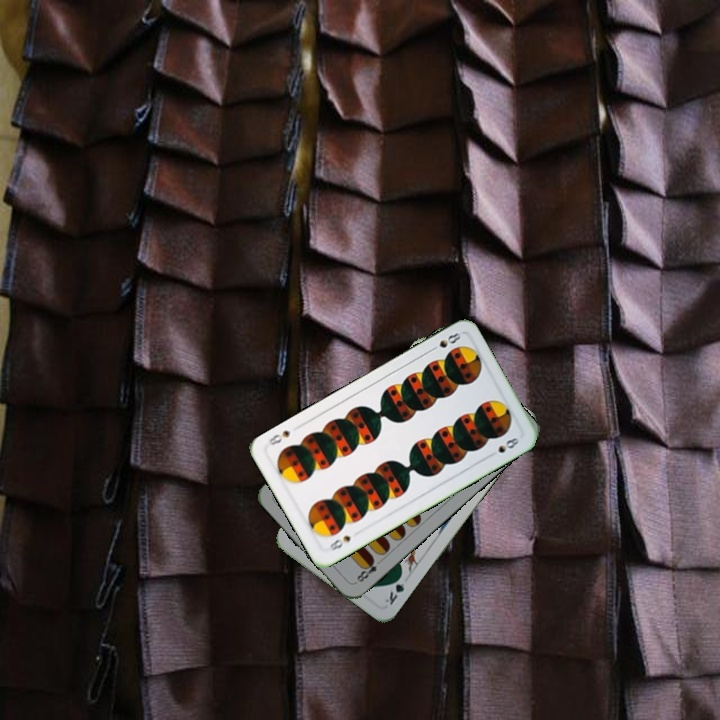E8: (351, 554, 385, 586)
GK: (381, 570, 407, 608)
S8: (426, 328, 463, 354), (326, 531, 354, 553)
